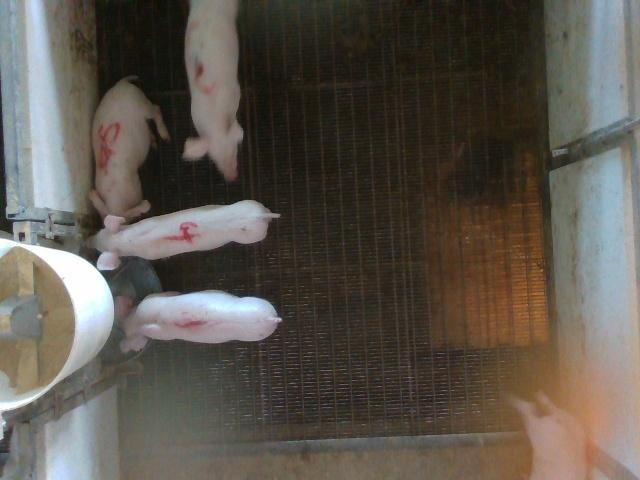pig-1: (114, 290, 281, 352)
pig-3: (182, 0, 244, 179)
pig-4: (89, 200, 280, 269)
pig-5: (90, 76, 170, 219)
